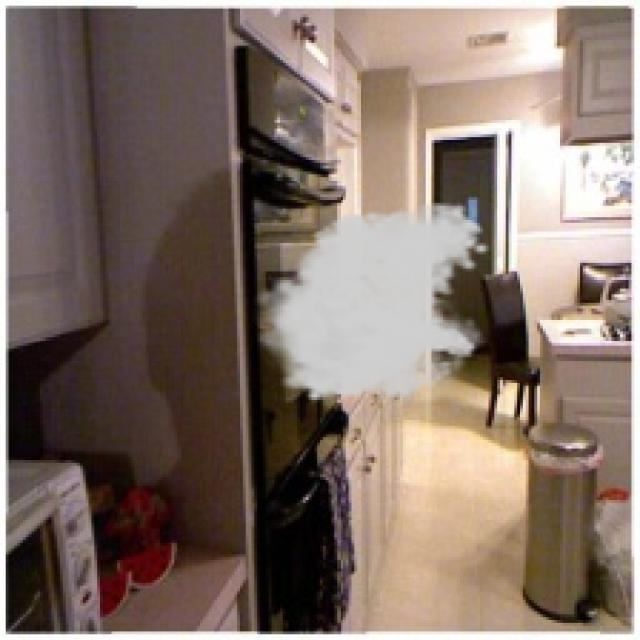smoke: (248, 200, 492, 414)
